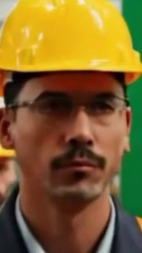Adem: (5, 8, 132, 241)
